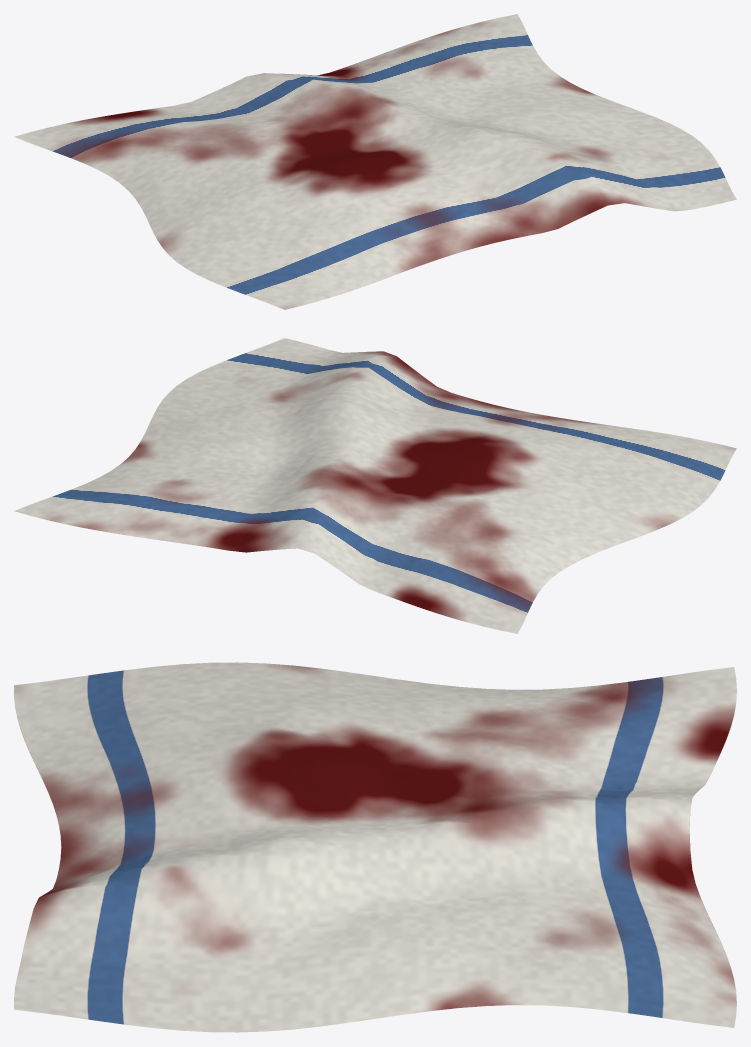
File: bloody_cloth.glb
3 views of the same model, one above another, from view 1: azimuth 30°, elevation 25°; view 2: azimuth 150°, elevation 25°; view 3: azimuth 270°, elevation 25° (orthographic). The views are drawn at different scales.
Visible parts, largest first — view 1: bloody_cloth; view 2: bloody_cloth; view 3: bloody_cloth.
Boxes of the visible parts, x1=… form: bloody_cloth: x1=14, y1=14, x2=736, y2=309; bloody_cloth: x1=14, y1=338, x2=736, y2=633; bloody_cloth: x1=14, y1=662, x2=736, y2=1032.
Bounding box in the file's own units: 0.3 × 0.0206 × 0.2477.
1 material, 1 textured.
